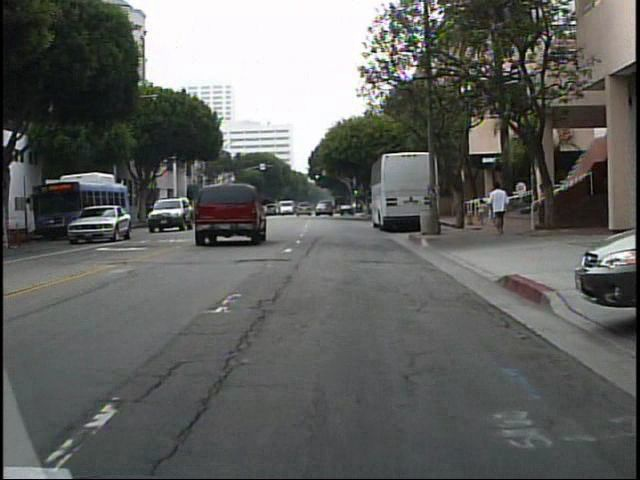person: (490, 180, 515, 237), (475, 195, 488, 228)
